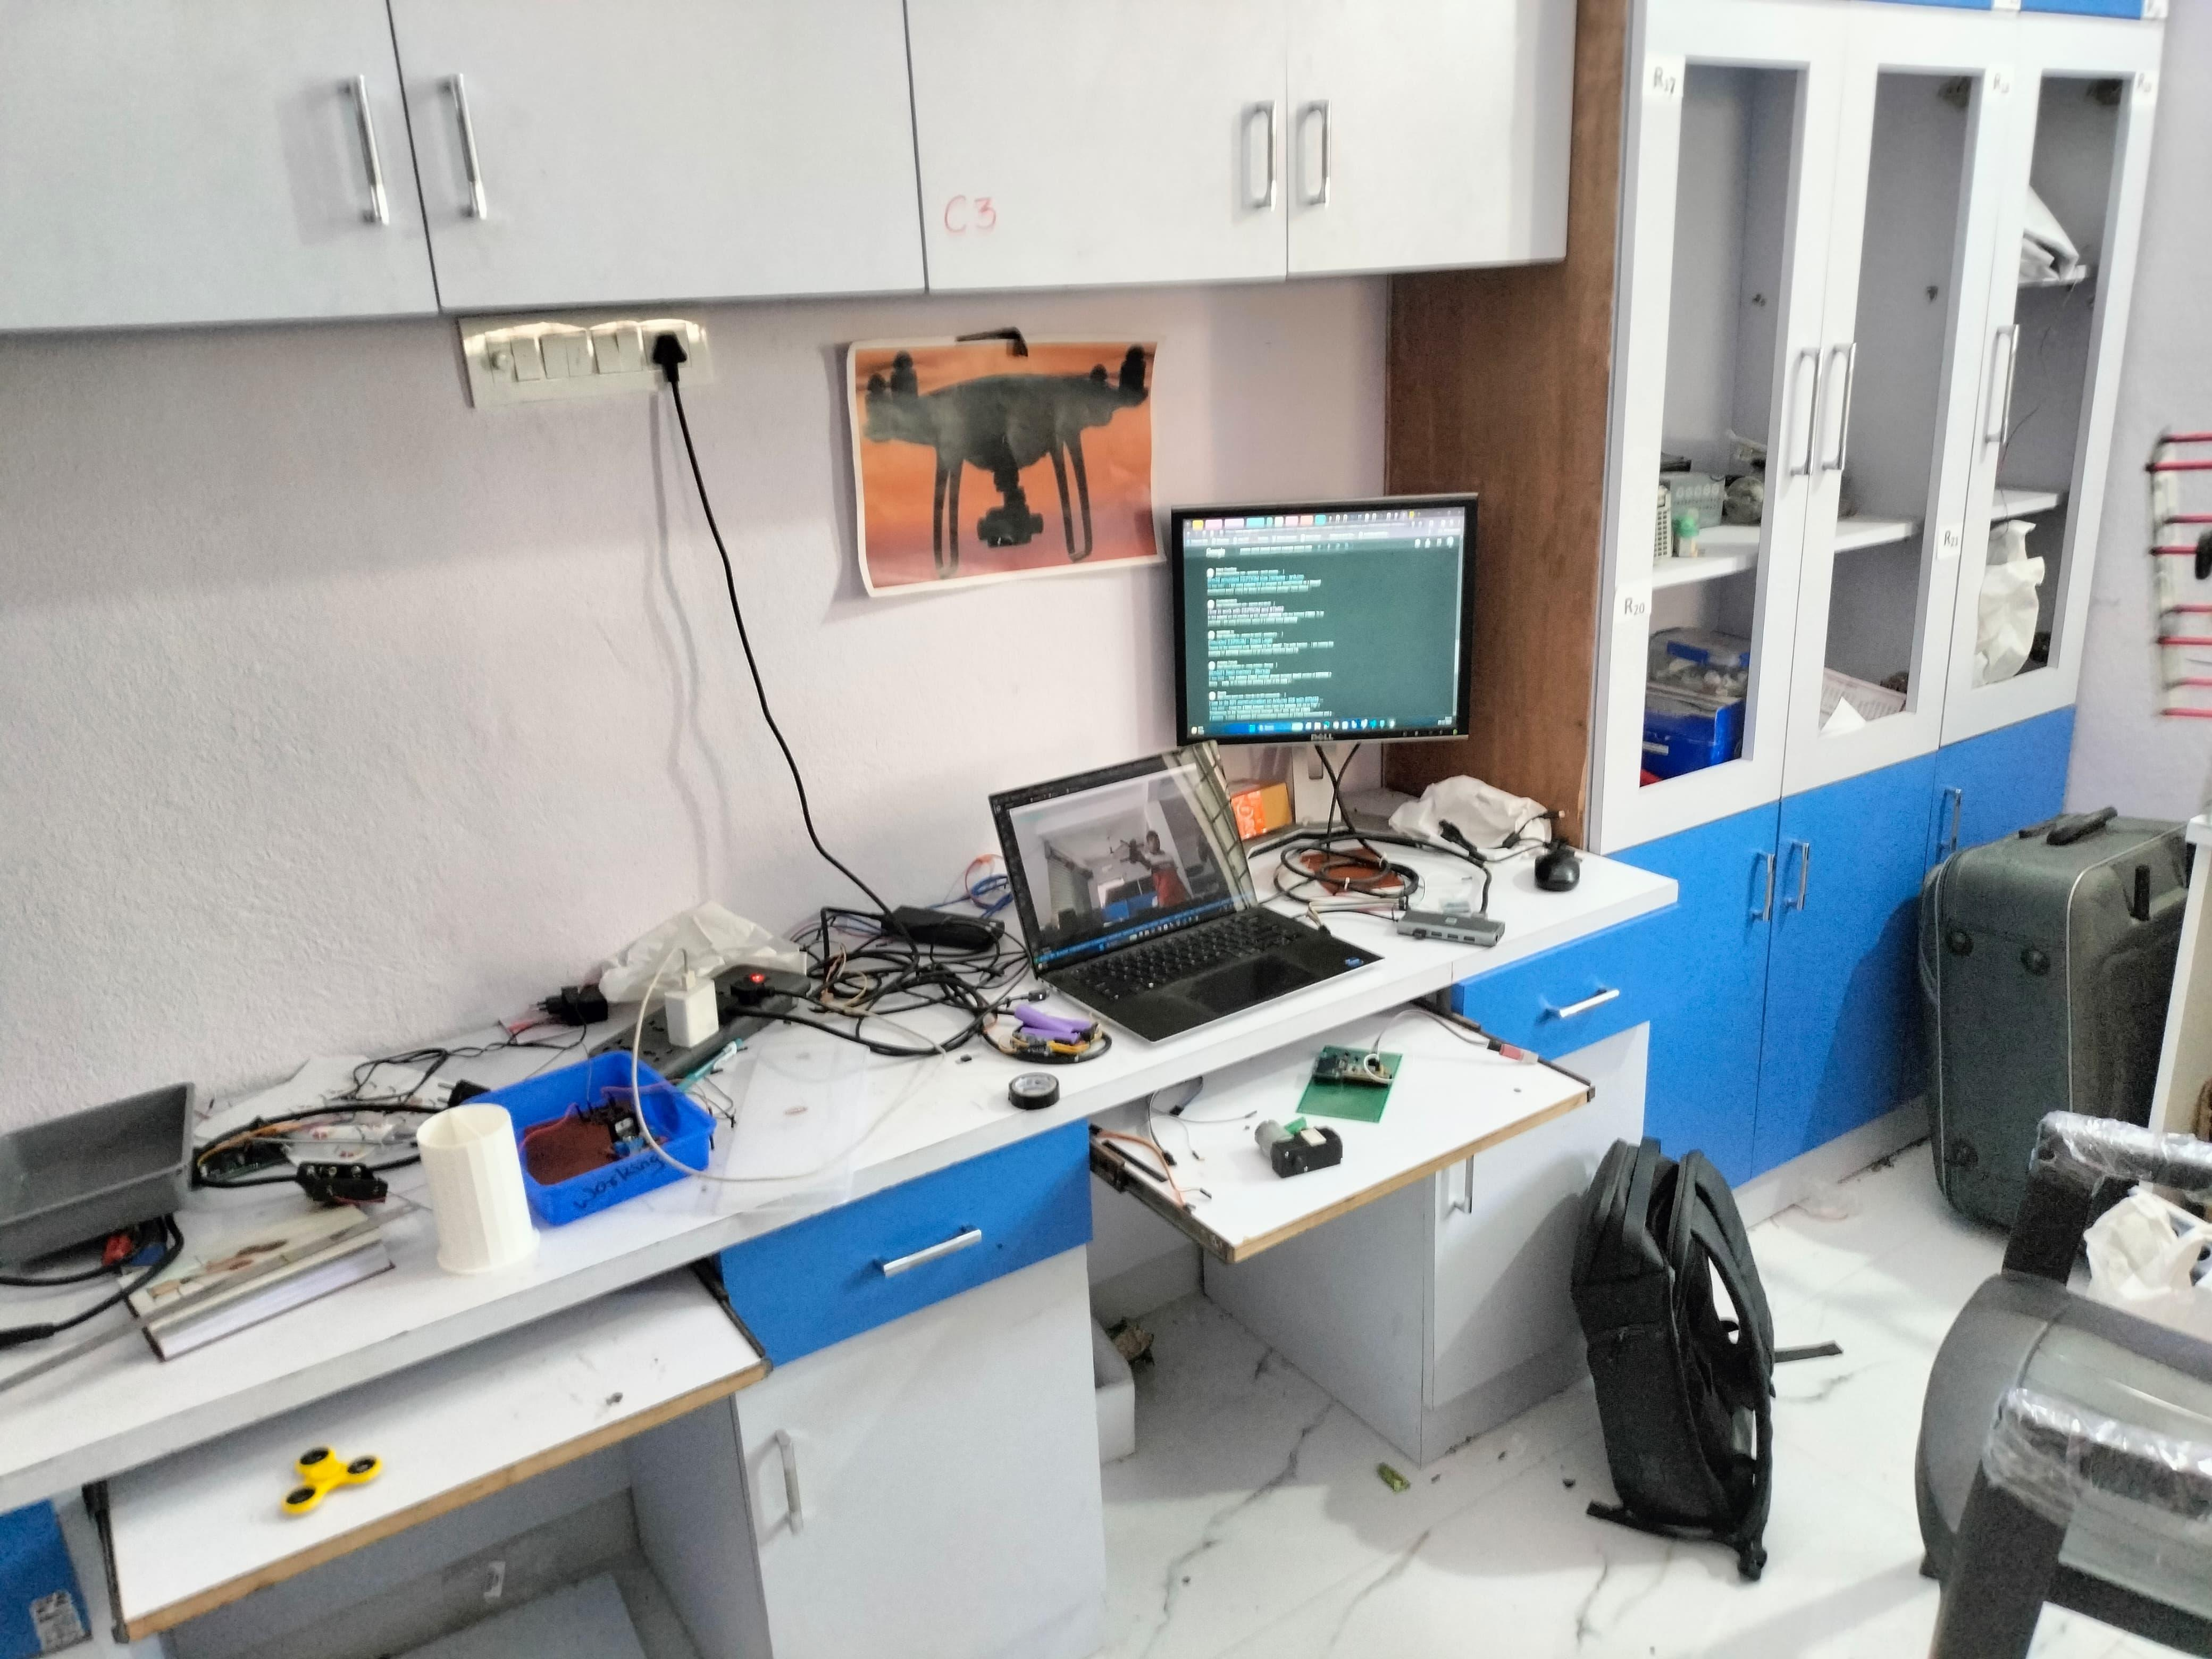drone: (848, 354, 1160, 572)
